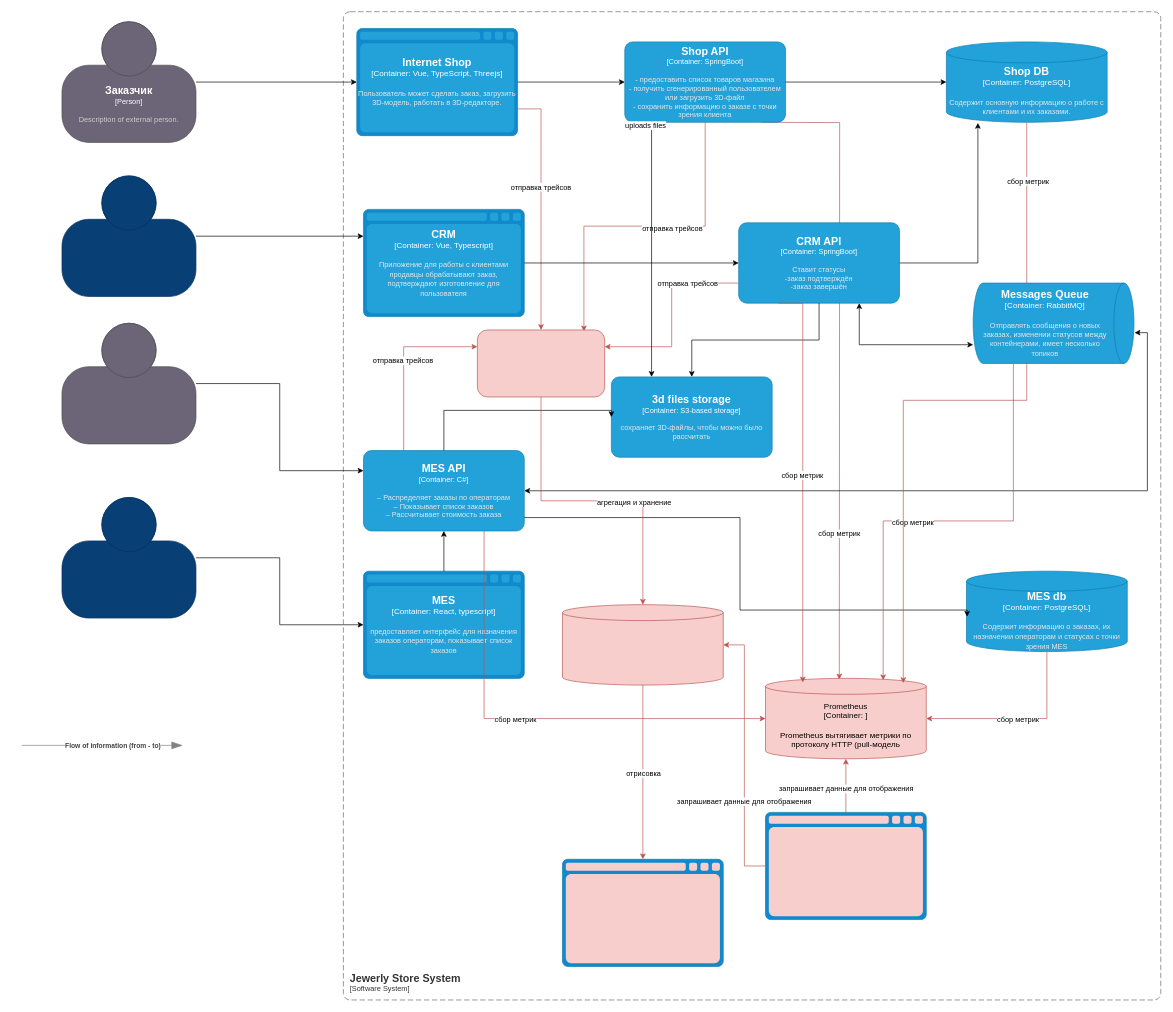
Image size: 1173x1012. Some labels were removed from this diagram. Here are the shapes that lost their labels. From the top down, the centre of each, then its label:
At point (128, 235): "Продавец [Person] Работает с заказом, подтверждает изготовление для пользователя".
At point (128, 383): "API user [Person] Description of external person.".
At point (541, 363): "OpenTelemetry Collector".
At point (128, 557): "Operator [Person] берет заказы в работу, изготавливает украшения".
At point (642, 644): "Jaeger db [Container: ] Jaeger хранение данных метрик".
At point (845, 866): "Grafana [Container: ] визуализация, анализ данных и нотификации".
At point (642, 912): "Jaeger-UI [Container: ] веб-интерфейс для поиска и просмотров трейсов.".
